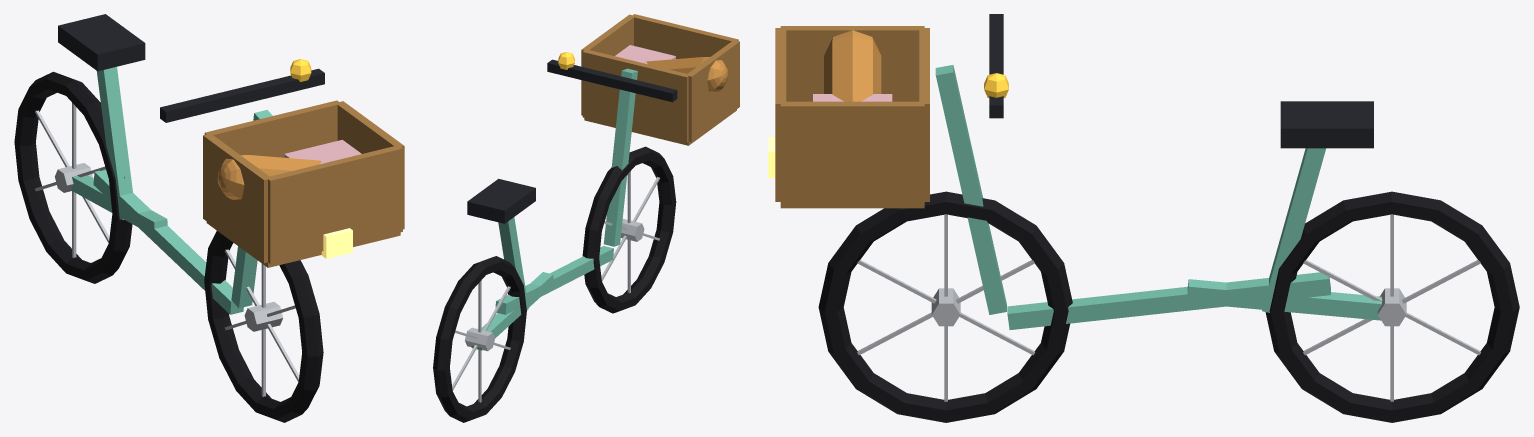
File: delivery_bike.glb
The picture shows the model from 3 angles, left to right: view 1: azimuth 30°, elevation 25°; view 2: azimuth 150°, elevation 25°; view 3: azimuth 270°, elevation 25°; orthographic projection. The views are drawn at different scales.
Visible parts, largest first — view 1: basket_wicker, wheels_tire, frame_bike_mint, frame_car_black, wheels_rim, basket_bike_loaf, basket_cake_box, lights_lamp, frame_gold; view 2: basket_wicker, wheels_tire, frame_bike_mint, frame_car_black, wheels_rim, basket_bike_loaf, basket_cake_box; view 3: wheels_tire, basket_wicker, frame_bike_mint, wheels_rim, frame_car_black, basket_bike_loaf.
Part boxes in pixels (bbox=[...]): basket_wicker: bbox=[203, 100, 404, 267]; wheels_tire: bbox=[14, 71, 323, 422]; frame_bike_mint: bbox=[71, 66, 272, 314]; frame_car_black: bbox=[58, 14, 324, 122]; wheels_rim: bbox=[35, 103, 299, 396]; basket_bike_loaf: bbox=[217, 155, 321, 199]; basket_cake_box: bbox=[284, 139, 361, 164]; lights_lamp: bbox=[321, 228, 352, 258]; frame_gold: bbox=[290, 59, 311, 81]; basket_wicker: bbox=[581, 14, 739, 145]; wheels_tire: bbox=[433, 146, 676, 422]; frame_bike_mint: bbox=[471, 68, 637, 350]; frame_car_black: bbox=[467, 59, 677, 223]; wheels_rim: bbox=[452, 171, 659, 402]; basket_bike_loaf: bbox=[646, 57, 728, 92]; basket_cake_box: bbox=[615, 45, 675, 64]; wheels_tire: bbox=[818, 191, 1519, 422]; basket_wicker: bbox=[775, 26, 929, 208]; frame_bike_mint: bbox=[935, 65, 1381, 329]; wheels_rim: bbox=[857, 214, 1480, 401]; frame_car_black: bbox=[989, 14, 1373, 148]; basket_bike_loaf: bbox=[824, 29, 881, 101].
Bounding box in the file's own units: 0.6137 × 1.17 × 2.09.
